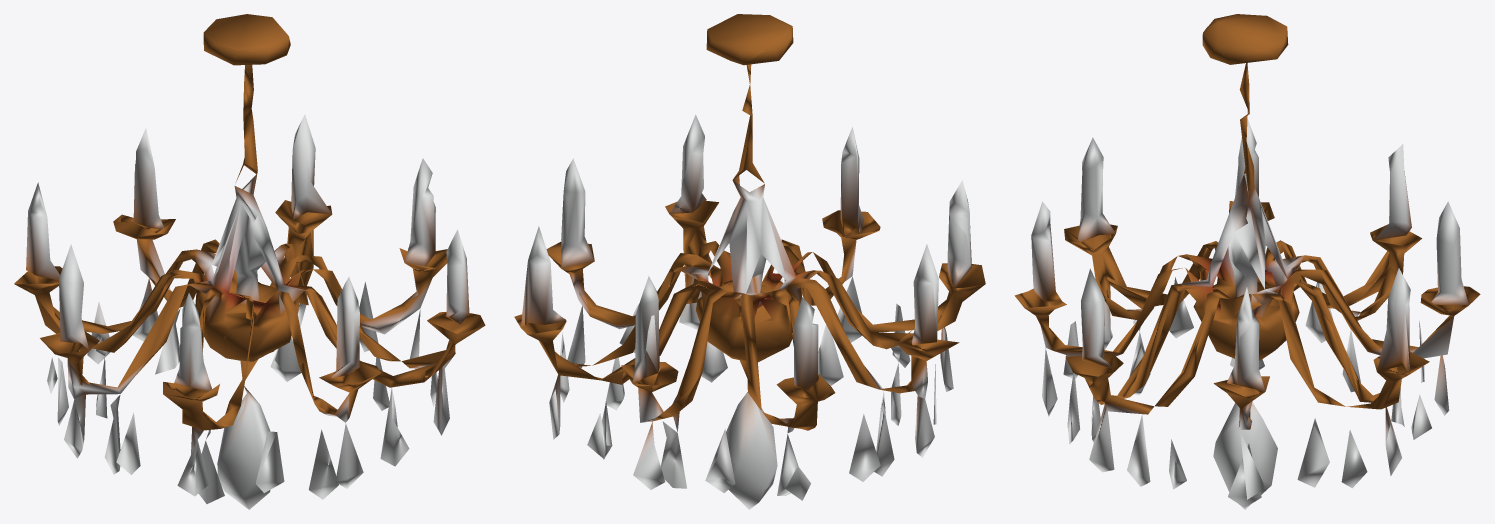
The model's file is gen3d-chandelier-lod1.glb.
3 renders of one model, left to right at view 1: azimuth 30°, elevation 25°; view 2: azimuth 150°, elevation 25°; view 3: azimuth 270°, elevation 25°, orthographic.
Parts seen in each view (by area): view 1: part_0; view 2: part_0; view 3: part_0.
Part boxes in pixels (box(x1,y1,x2,y2)): part_0: box(14, 14, 485, 509); part_0: box(514, 14, 985, 509); part_0: box(1014, 14, 1480, 509).
Bounding box in the file's own units: 0.8855 × 0.9993 × 0.8839.
